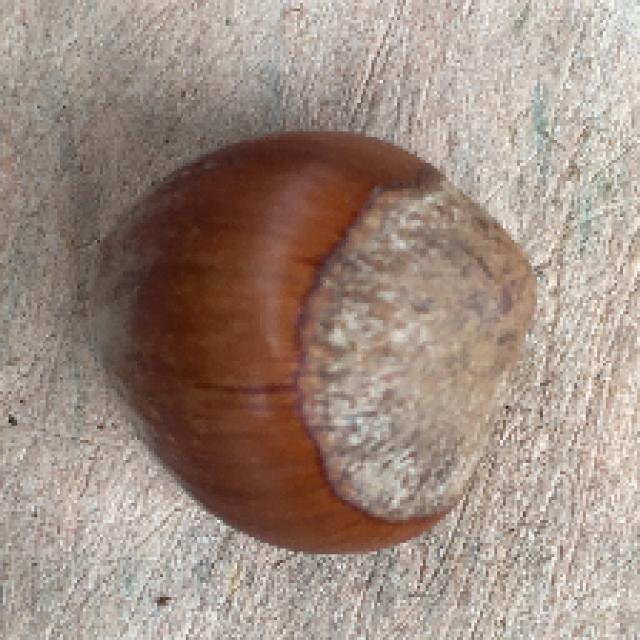QualityHazelnut: (81, 129, 538, 562)
